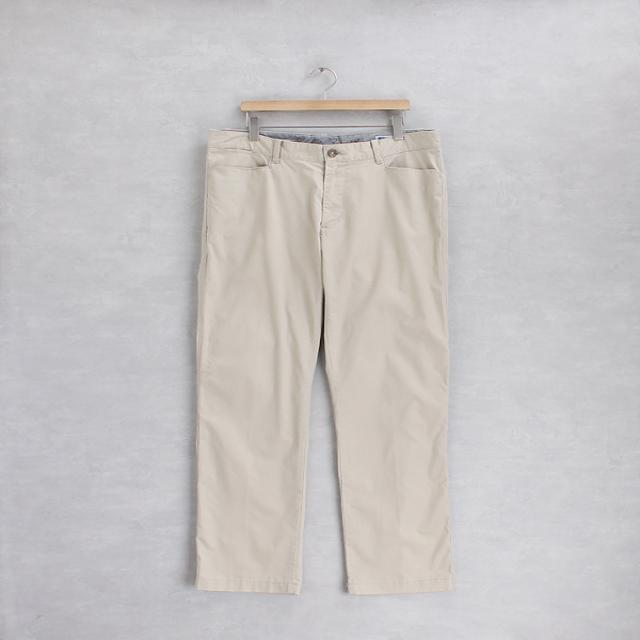long-pants: (195, 126, 454, 598)
